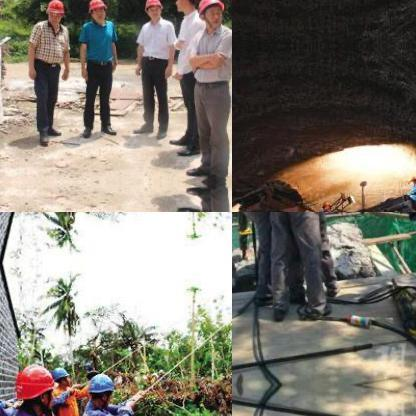Helmet: (12, 360, 54, 408), (86, 370, 114, 406), (41, 0, 70, 26), (198, 0, 224, 25), (50, 361, 70, 387), (85, 0, 107, 21), (142, 0, 165, 19), (172, 0, 197, 11), (320, 196, 330, 212), (405, 173, 415, 187)
